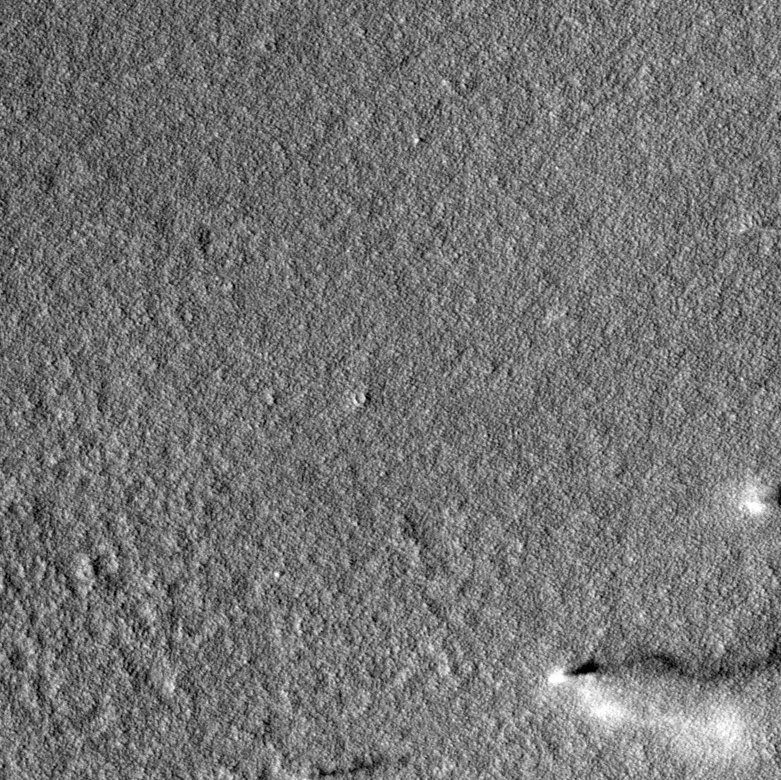dust_devil: (544, 628, 781, 741)
